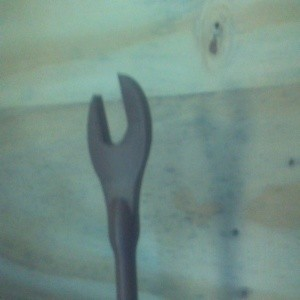spanner: (84, 73, 154, 300)
